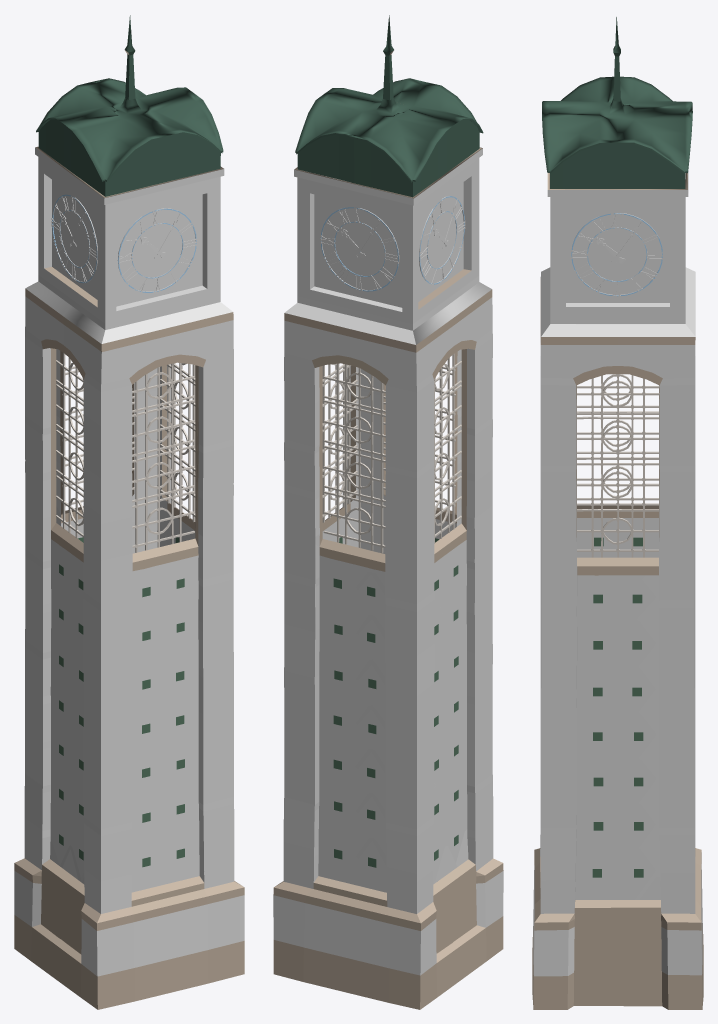
The model's file is GVSUclockTower.blend.fbx.
The picture shows the model from 3 angles, left to right: view 1: azimuth 30°, elevation 25°; view 2: azimuth 150°, elevation 25°; view 3: azimuth 270°, elevation 25°; orthographic projection.
Visible parts, largest first — view 1: clock; view 2: clock; view 3: clock.
Boxes of the visible parts, box(x1,y1,x2,y2) form: clock: box(14, 15, 244, 1009); clock: box(273, 15, 503, 1009); clock: box(532, 17, 703, 1009).
Size of the model in its own units: 1834 by 1823 by 11255.
